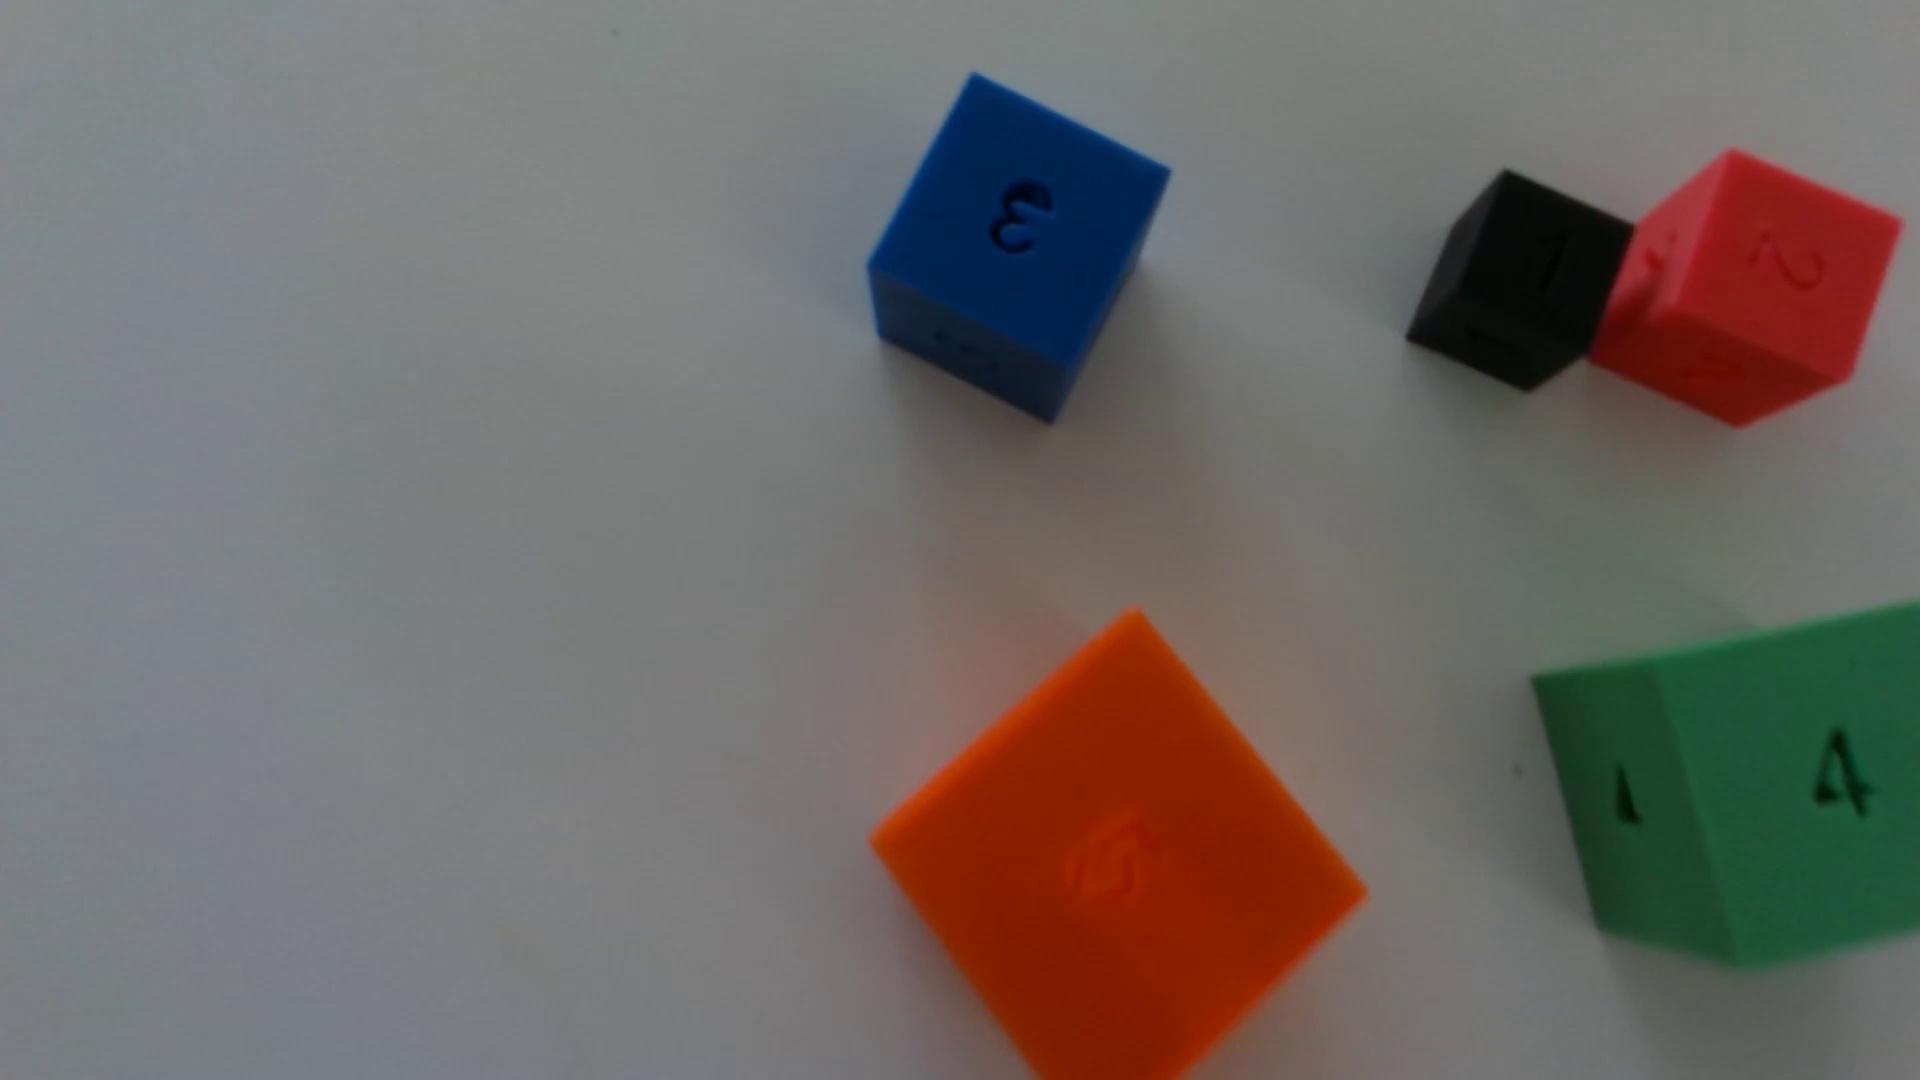black: (1406, 171, 1633, 392)
blue: (868, 76, 1168, 422)
green: (1534, 604, 1920, 969)
orange: (872, 612, 1364, 1080)
red: (1590, 152, 1902, 429)
